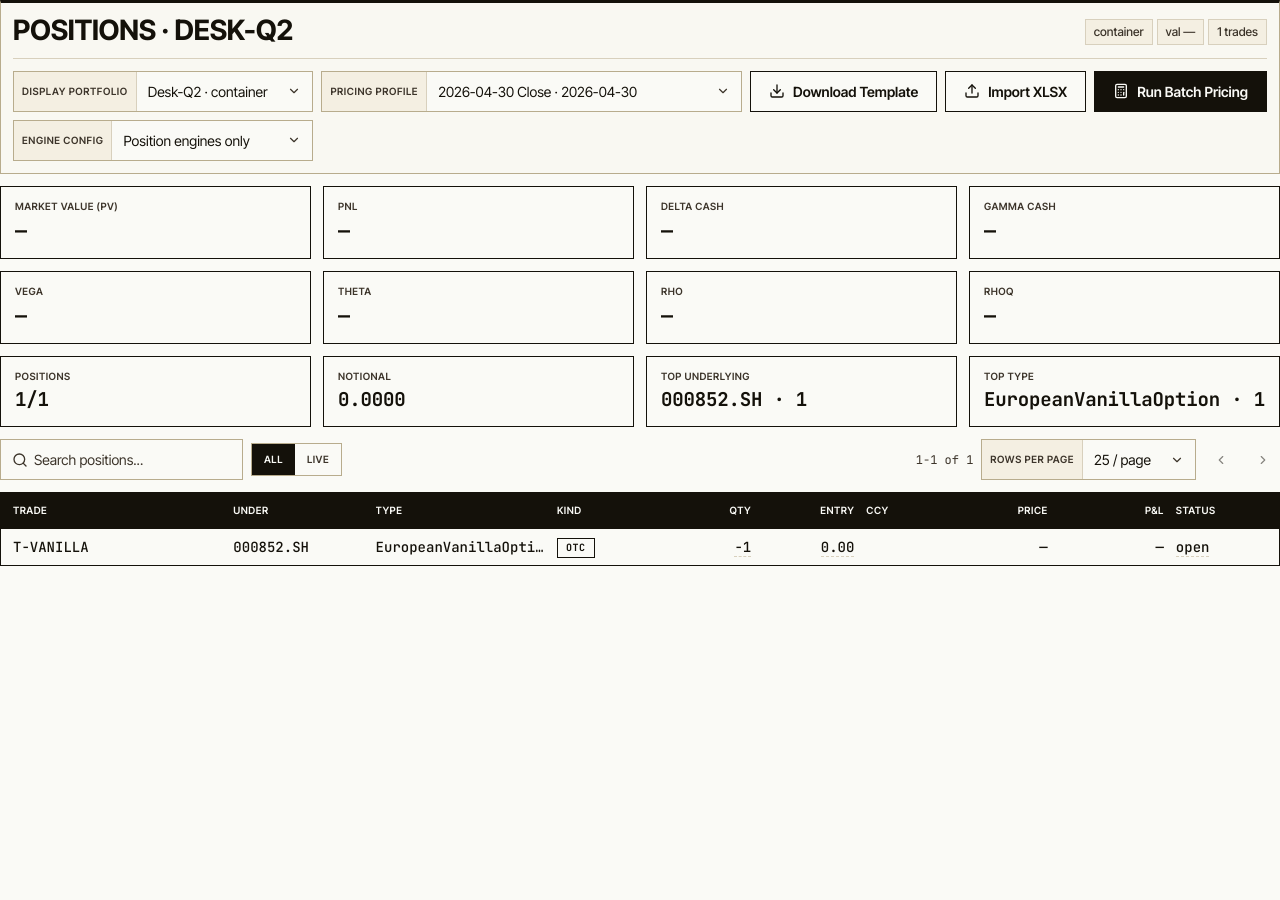
PositionsLive › closes the detail dialog when the profile changes, then refetches with the new profile on reopen
Click the text "T-VANILLA" at (51, 547), box [13,538,89,556]
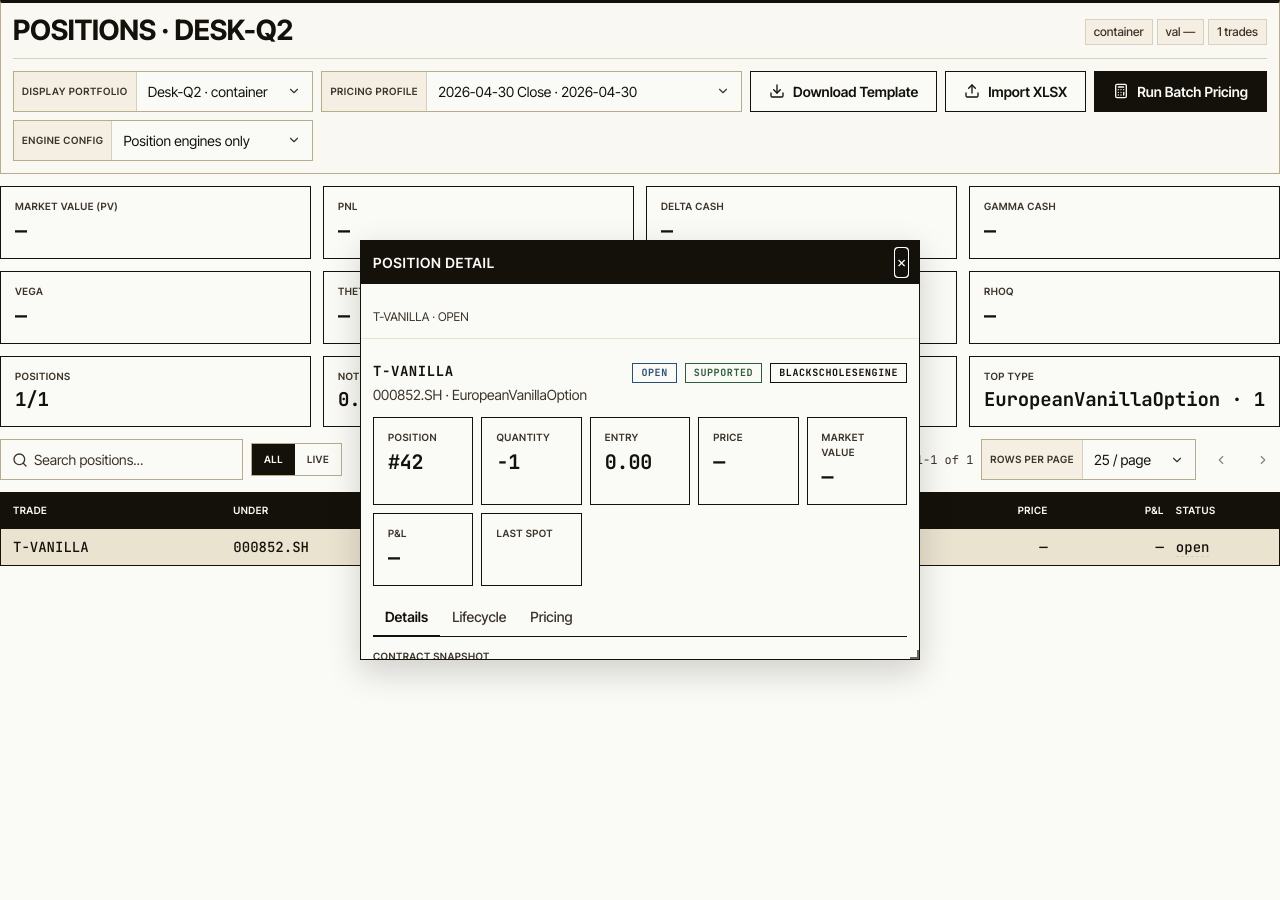
Click the tab "Pricing" at (551, 617), box [518,598,584,637]
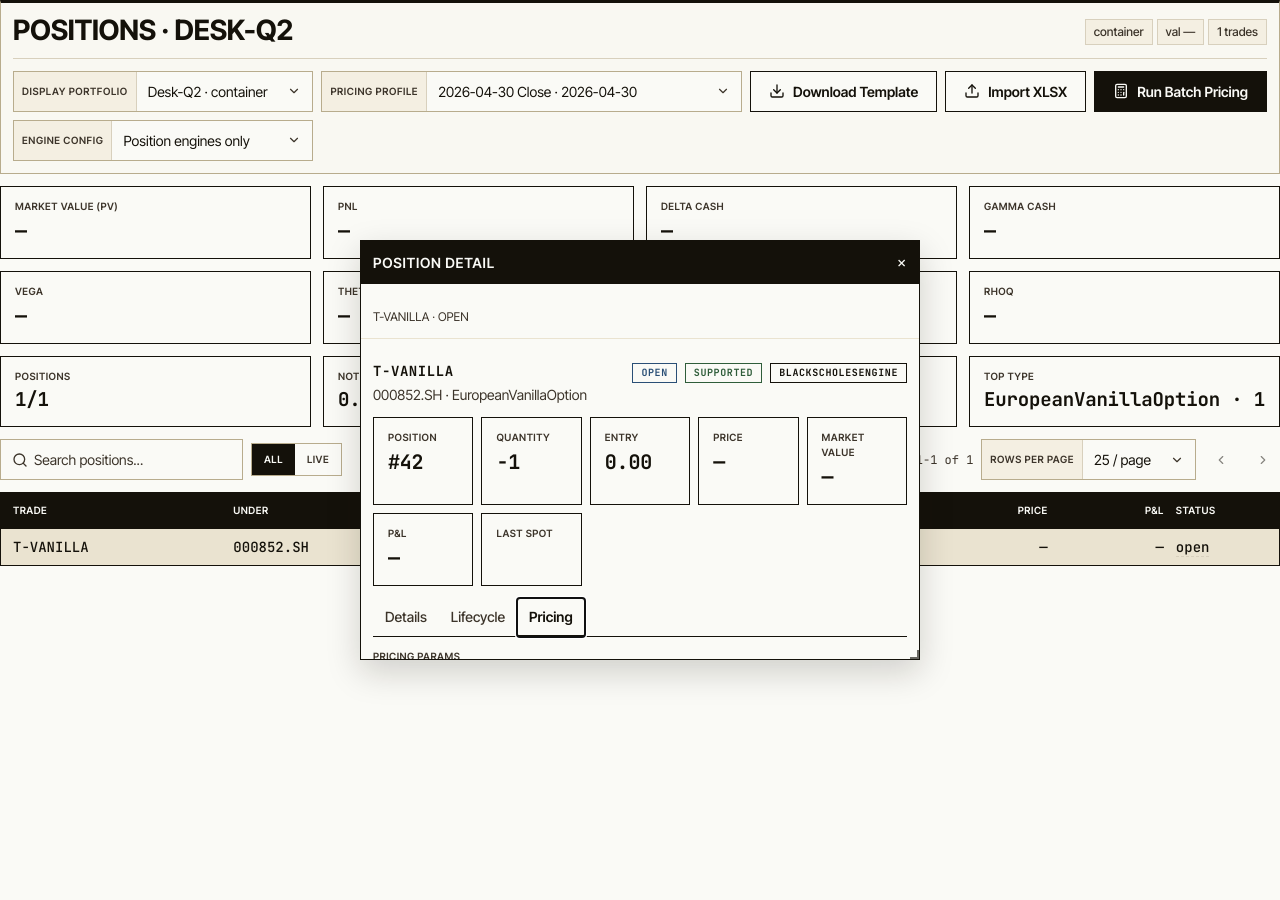
Select "2026-05-30 Close · 2026-04-30" in the dropdown labelled "Pricing profile" at (375, 91), box [322,72,427,111]
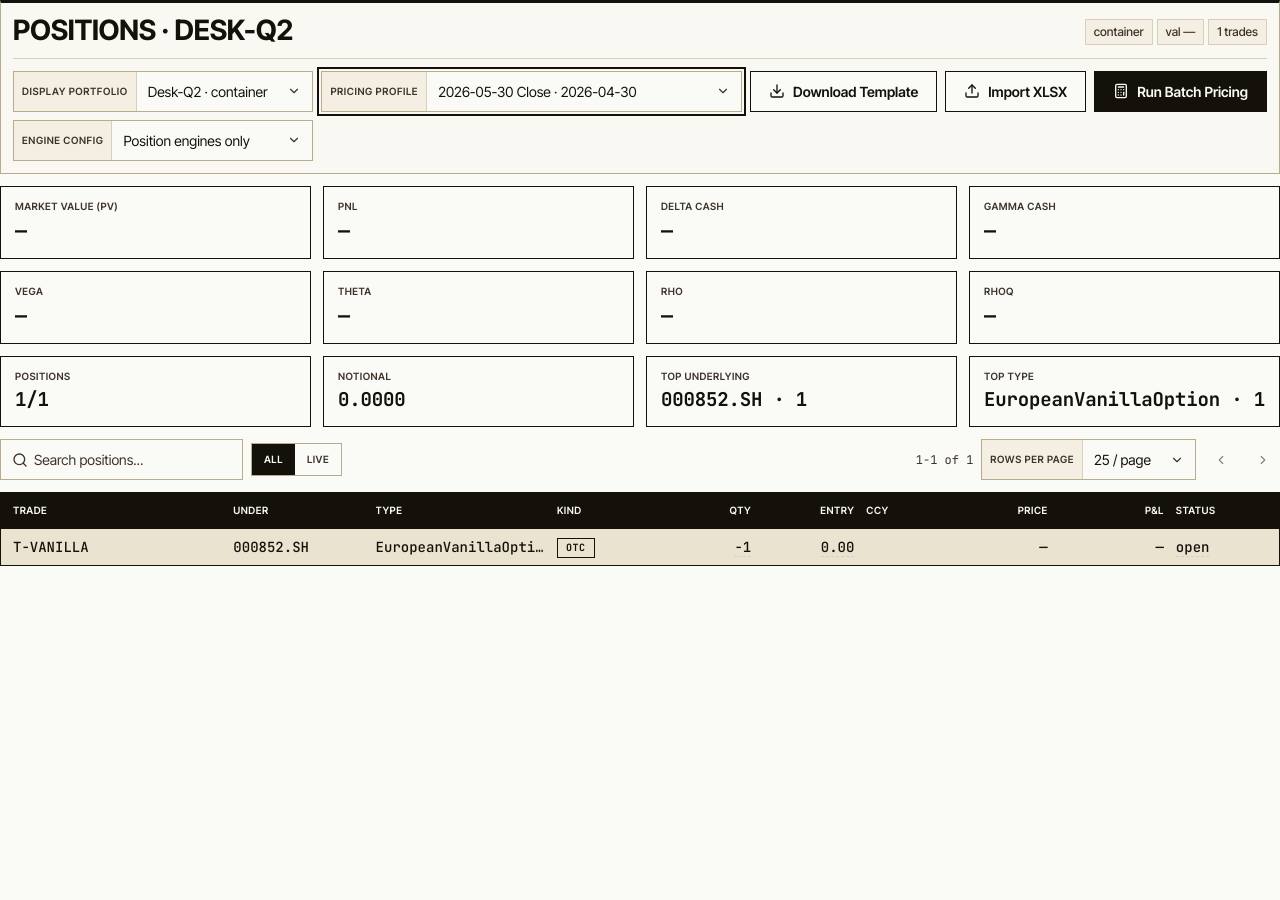
Check: the heading "Position Detail" is gone
Click the text "T-VANILLA" at (51, 547), box [13,538,89,556]
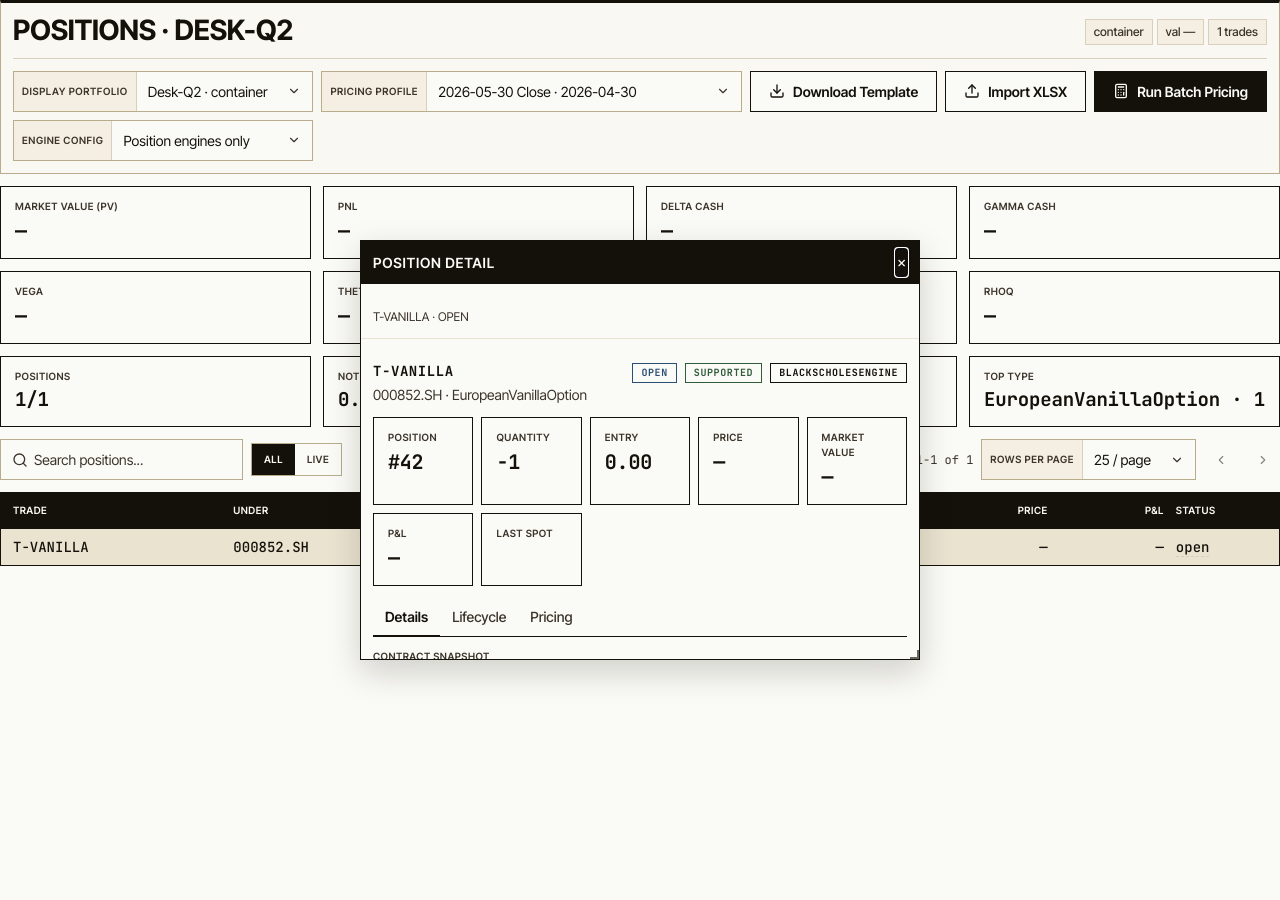
Click the tab "Pricing" at (551, 617), box [518,598,584,637]
(page scrolled)
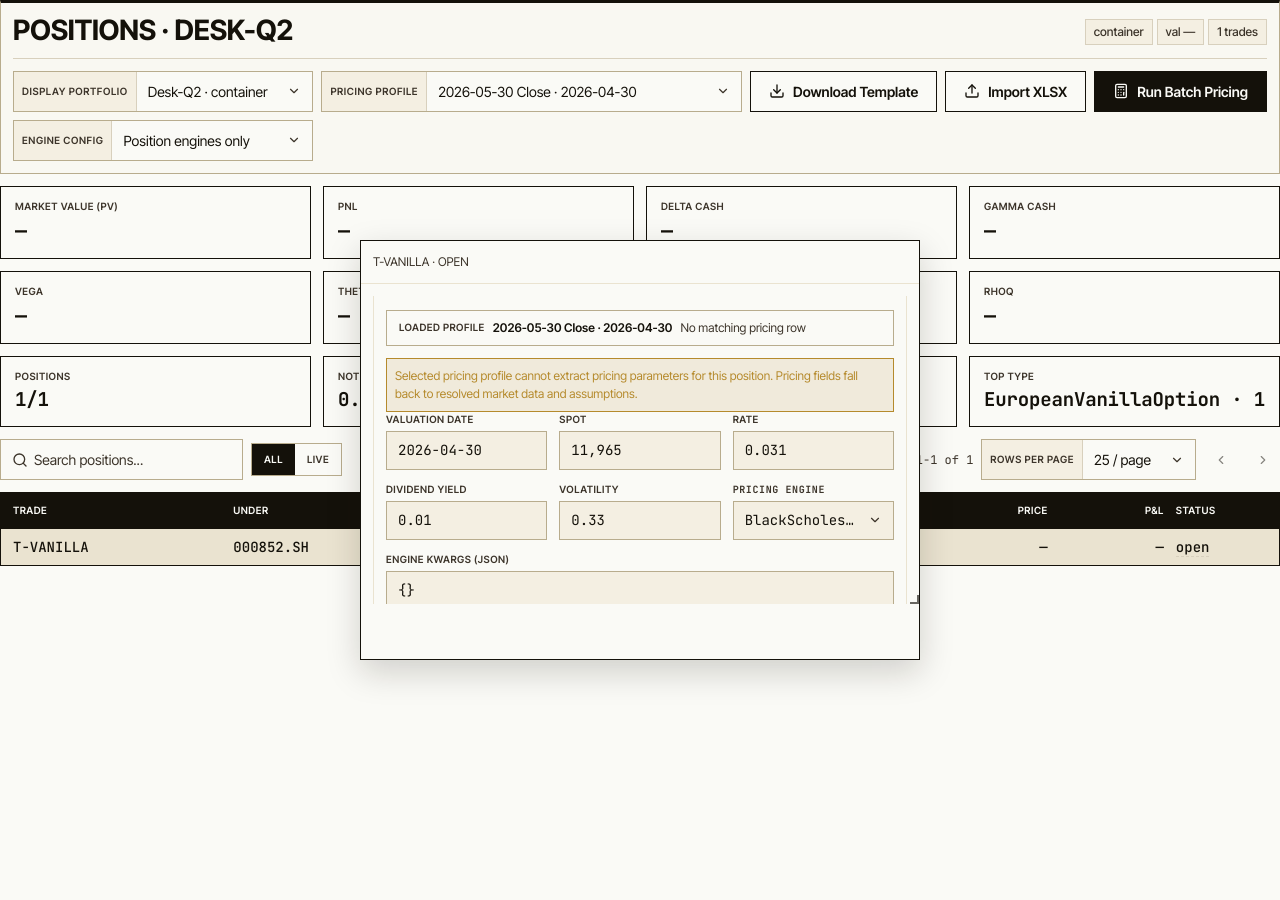
Check: the number field named "Pricing rate" holds "0.031", box [733,431,894,470]
